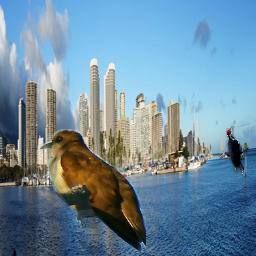Cuckoo: (40, 129, 146, 254)
Woodpecker: (226, 126, 249, 176)
